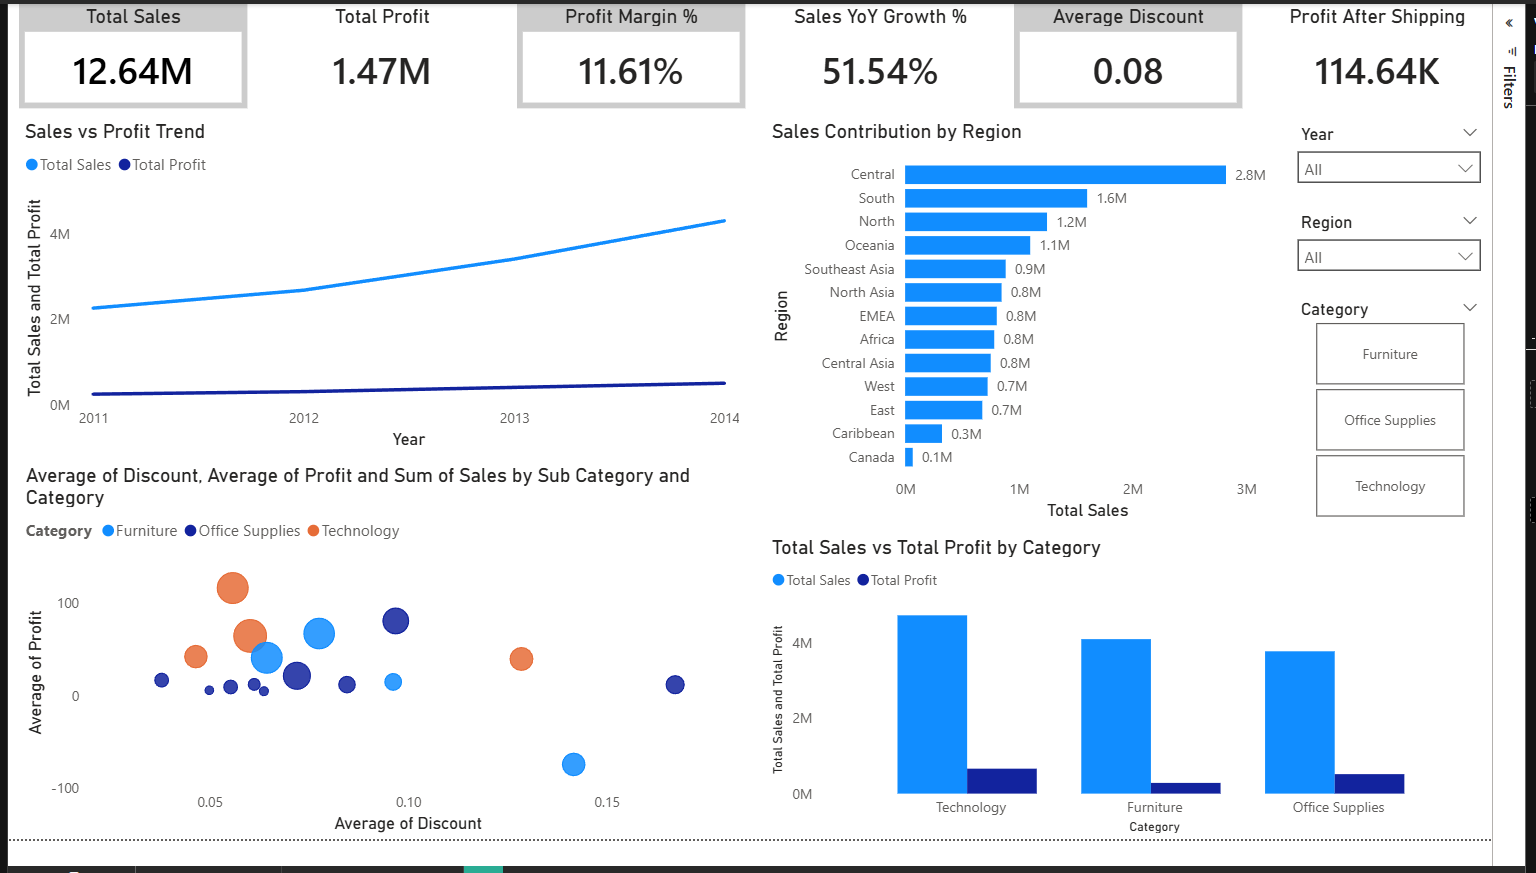

This screenshot's page, from the dashboard's own definition file:
{"tool":"powerbi","page":{"name":"Executive Overview","canvas":[1280,720],"ordinal":0},"visuals":[{"type":"cardVisual","title":"Total Sales","fields":{"Data":["superstore.Total Sales"]},"box":[9.7,0,197.4,90.5],"z":0},{"type":"cardVisual","title":"Total Profit","fields":{"Data":["superstore.Total Profit"]},"box":[224.3,0,197.4,90.5],"z":1000},{"type":"cardVisual","title":"Sales YoY Growth %","fields":{"Data":["superstore.Sales YoY Growth %"]},"box":[653.4,0,197.4,90.5],"z":2000},{"type":"cardVisual","title":"Profit Margin %","fields":{"Data":["superstore.Profit Margin %"]},"box":[438.9,0,197.4,90.5],"z":3000},{"type":"cardVisual","title":"Average Discount","fields":{"Data":["superstore.Average Discount"]},"box":[868,0,197.4,90.5],"z":4000},{"type":"cardVisual","title":"Profit After Shipping","fields":{"Data":["superstore.Profit After Shipping"]},"box":[1082.6,0,197.4,90.5],"z":5000},{"type":"lineChart","title":"Sales vs Profit Trend","fields":{"Category":["superstore.Order Date.Variation.Date Hierarchy.Year","superstore.Order Date.Variation.Date Hierarchy.Quarter","superstore.Order Date.Variation.Date Hierarchy.Month","superstore.Order Date.Variation.Date Hierarchy.Day"],"Y":["superstore.Total Sales","superstore.Total Profit"]},"box":[9.7,99.2,626.4,289.8],"z":6000},{"type":"clusteredBarChart","title":"Sales Contribution by Region","fields":{"Category":["superstore.Region"],"Y":["superstore.Total Sales"]},"box":[653.8,98.8,448.9,350],"z":7000},{"type":"clusteredColumnChart","title":"Total Sales vs Total Profit by Category","fields":{"Category":["superstore.Category"],"Y":["superstore.Total Sales","superstore.Total Profit"]},"box":[653.8,457.9,625.7,262.1],"z":8000},{"type":"scatterChart","fields":{"X":["Avg(superstore.Discount)"],"Y":["Avg(superstore.Profit)"],"Category":["superstore.Sub Category"],"Size":["Sum(superstore.Sales)"],"Series":["superstore.Category"]},"box":[10,396.3,625.7,323.7],"z":9000},{"type":"slicer","fields":{"Values":["superstore.Year"]},"box":[1102.7,98.8,177.7,68],"z":10000},{"type":"slicer","fields":{"Values":["superstore.Region"]},"box":[1102.7,175,177.7,68.9],"z":11000},{"type":"slicer","fields":{"Values":["superstore.Category"]},"box":[1102.7,250.3,177.7,198.6],"z":12000}]}

Visuals, with their boxes on the page's 1280x720 design canvas (x1, y1, x2, y2). These are canvas units, not pixel positions in the 1536x873 screenshot, which may show the page scaled, cropped or inside an application window:
"Total Sales" cardVisual: [left=10, top=0, right=207, bottom=90]
"Total Profit" cardVisual: [left=224, top=0, right=422, bottom=90]
"Sales YoY Growth %" cardVisual: [left=653, top=0, right=851, bottom=90]
"Profit Margin %" cardVisual: [left=439, top=0, right=636, bottom=90]
"Average Discount" cardVisual: [left=868, top=0, right=1065, bottom=90]
"Profit After Shipping" cardVisual: [left=1083, top=0, right=1280, bottom=90]
"Sales vs Profit Trend" lineChart: [left=10, top=99, right=636, bottom=389]
"Sales Contribution by Region" clusteredBarChart: [left=654, top=99, right=1103, bottom=449]
"Total Sales vs Total Profit by Category" clusteredColumnChart: [left=654, top=458, right=1280, bottom=720]
scatterChart - Avg(superstore.Discount) x Avg(superstore.Profit): [left=10, top=396, right=636, bottom=720]
slicer - superstore.Year: [left=1103, top=99, right=1280, bottom=167]
slicer - superstore.Region: [left=1103, top=175, right=1280, bottom=244]
slicer - superstore.Category: [left=1103, top=250, right=1280, bottom=449]
